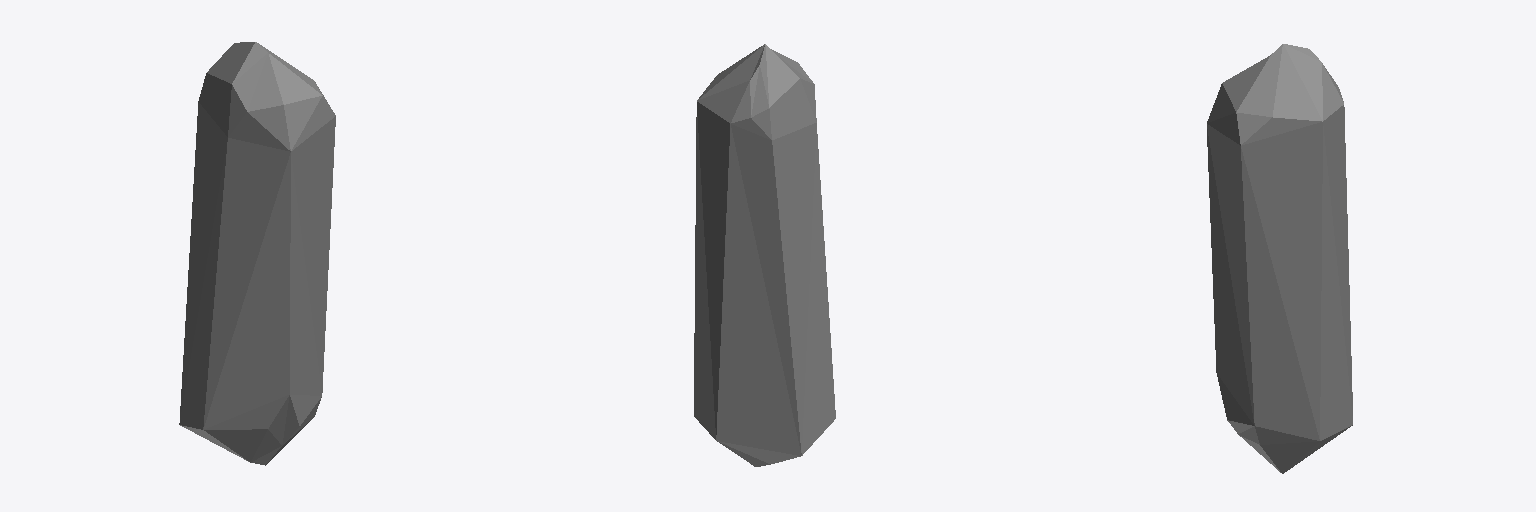
The picture shows the model from 3 angles: view 1: azimuth 30°, elevation 25°; view 2: azimuth 150°, elevation 25°; view 3: azimuth 270°, elevation 25°; orthographic projection.
Parts seen in each view (by area): view 1: crystal_small_001; view 2: crystal_small_001; view 3: crystal_small_001.
Boxes of the visible parts, <box> form: crystal_small_001: <box>179,42,335,465</box>; crystal_small_001: <box>694,44,835,466</box>; crystal_small_001: <box>1207,44,1352,473</box>.
Bounding box in the file's own units: 1.33 × 4.48 × 1.4.